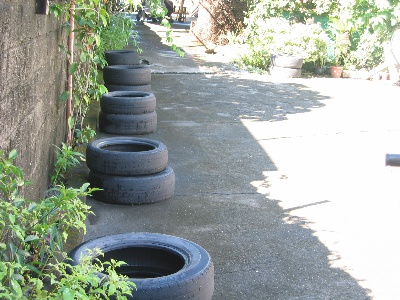tire: (67, 231, 214, 300), (86, 164, 175, 205), (85, 135, 167, 176), (99, 110, 157, 135), (99, 90, 156, 115), (102, 64, 151, 86), (104, 49, 139, 66)
